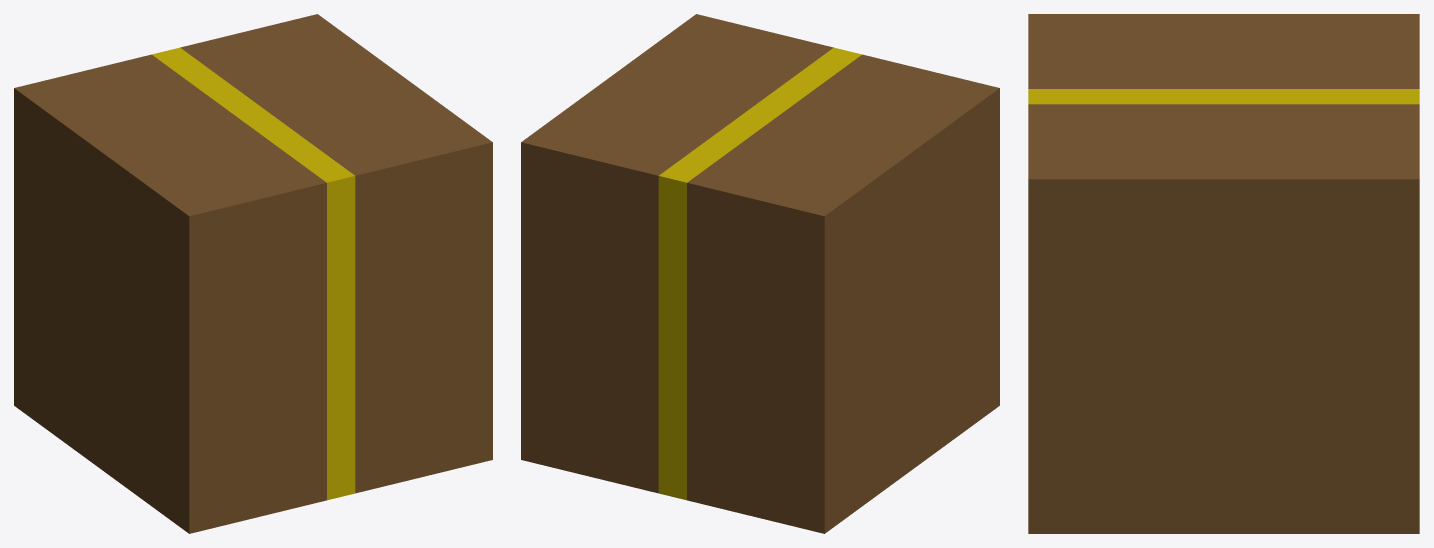
The model's file is large_box.glb.
The picture shows the model from 3 angles, left to right: view 1: azimuth 30°, elevation 25°; view 2: azimuth 150°, elevation 25°; view 3: azimuth 270°, elevation 25°; orthographic projection. The views are drawn at different scales.
Parts seen in each view (by area): view 1: Box_Closed_Palette_0; view 2: Box_Closed_Palette_0; view 3: Box_Closed_Palette_0.
Boxes of the visible parts, bbox=[...] form: Box_Closed_Palette_0: bbox=[14, 14, 492, 533]; Box_Closed_Palette_0: bbox=[521, 14, 999, 533]; Box_Closed_Palette_0: bbox=[1028, 14, 1419, 533].
Bounding box in the file's own units: 0.8 × 0.8 × 0.8.
Materials: 1 (1 with a texture image).
